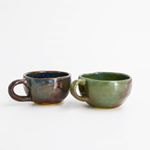cups: (69, 70, 135, 111), (6, 68, 72, 109)
